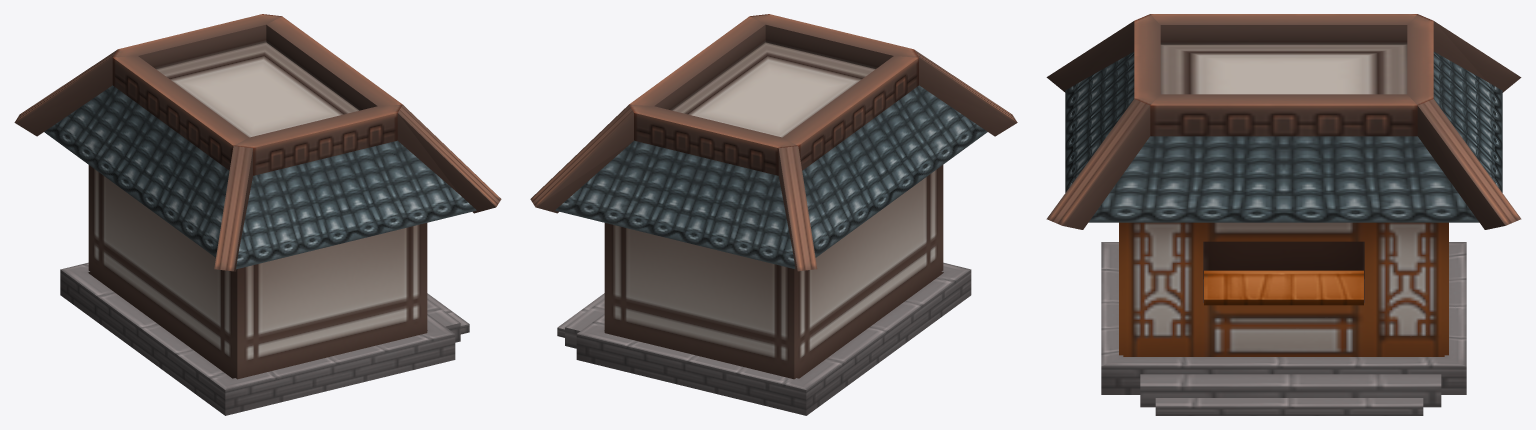
The model's file is zhucheng01_minfang02i.FBX.
3 views of the same model, side by side, from view 1: azimuth 30°, elevation 25°; view 2: azimuth 150°, elevation 25°; view 3: azimuth 270°, elevation 25° (orthographic). The views are drawn at different scales.
Parts seen in each view (by area): view 1: Box36; view 2: Box36; view 3: Box36.
Part boxes in pixels (x1,y1,x2,y2): Box36: [14, 14, 501, 415]; Box36: [530, 14, 1017, 415]; Box36: [1046, 14, 1521, 415].
Bounding box in the file's own units: 8.82 × 6.99 × 11.02.
